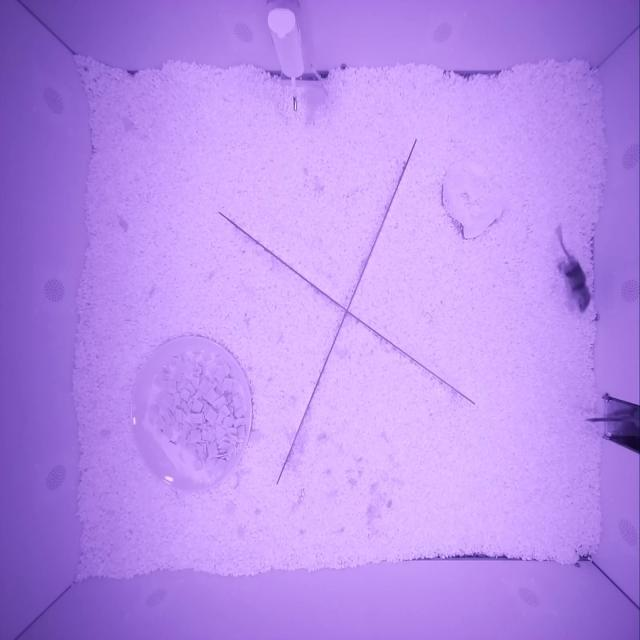adult_back: (633, 408, 640, 428)
pup_h_stripe: (556, 255, 591, 314)
